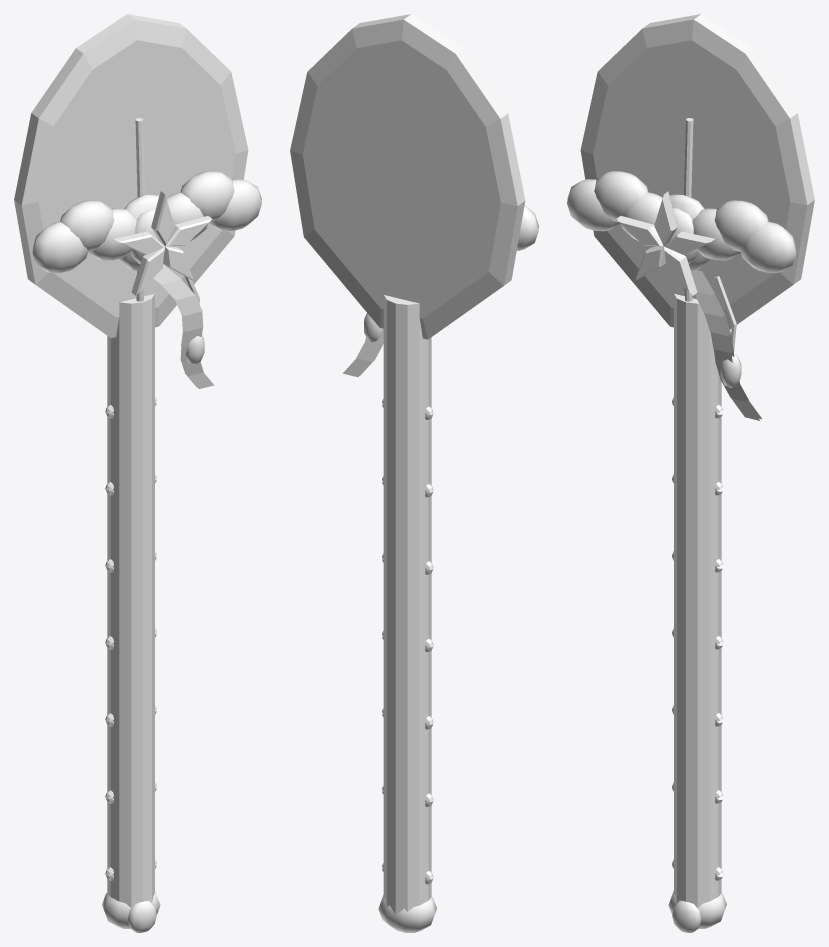
Rendered from shovel.obj.
3 renders of one model, left to right at view 1: azimuth 30°, elevation 25°; view 2: azimuth 150°, elevation 25°; view 3: azimuth 330°, elevation 25°, orthographic.
Bounding box in the file's own units: 0.2775 × 1.05 × 0.0995.
